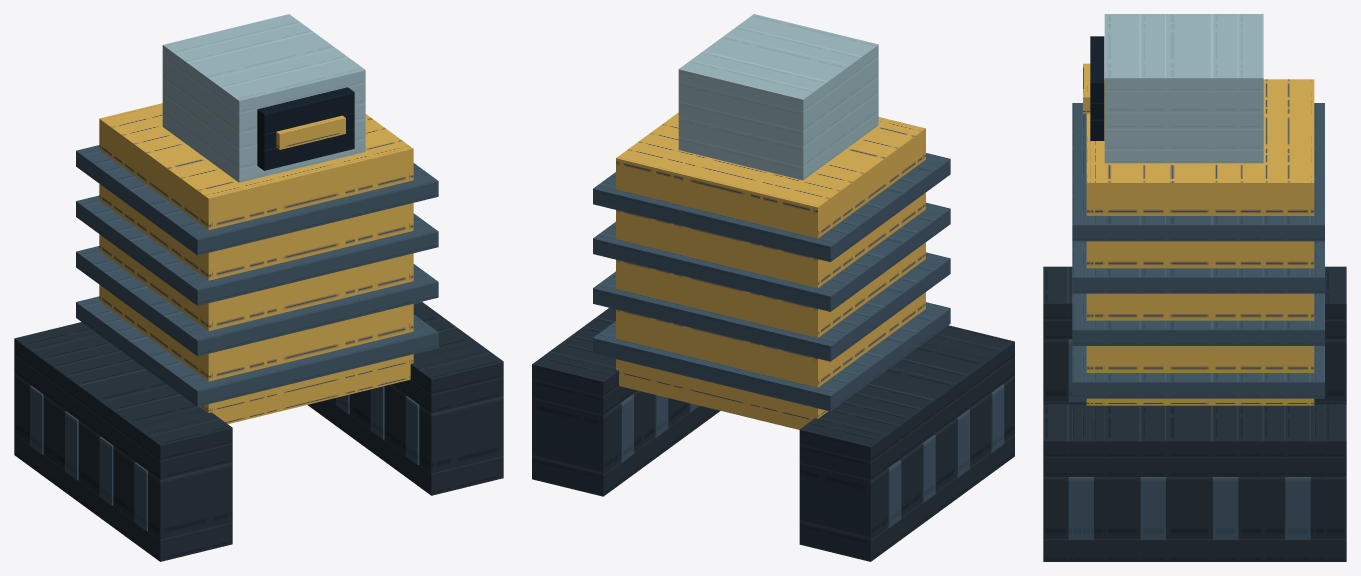
File: sc_robot_dynamo.obj
3 views of the same model, side by side, from view 1: azimuth 30°, elevation 25°; view 2: azimuth 150°, elevation 25°; view 3: azimuth 270°, elevation 25° (orthographic). The views are drawn at different scales.
Bounding box in the file's own units: 11.5 × 13.1 × 8.4.
Materials: 1 (1 with a texture image).
